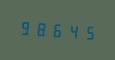eight: (33, 18, 47, 39)
five: (78, 21, 92, 42)
four: (63, 20, 77, 41)
nine: (18, 17, 32, 38)
six: (48, 19, 62, 40)
